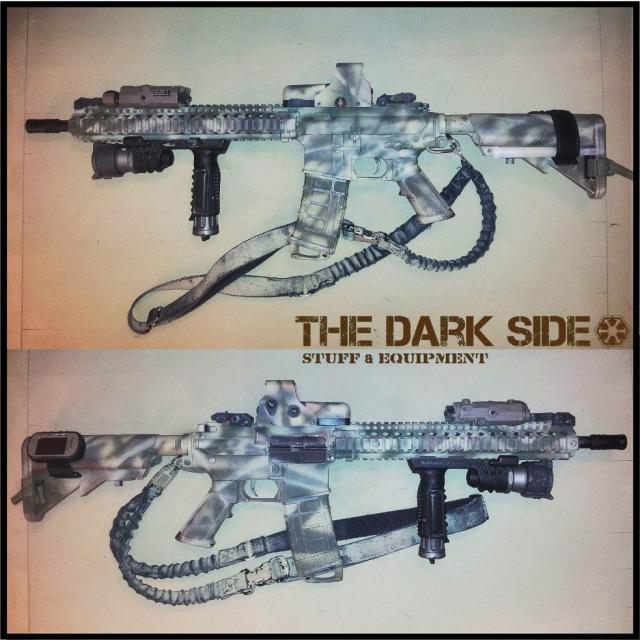firearm: (19, 380, 627, 580), (26, 60, 606, 254)
